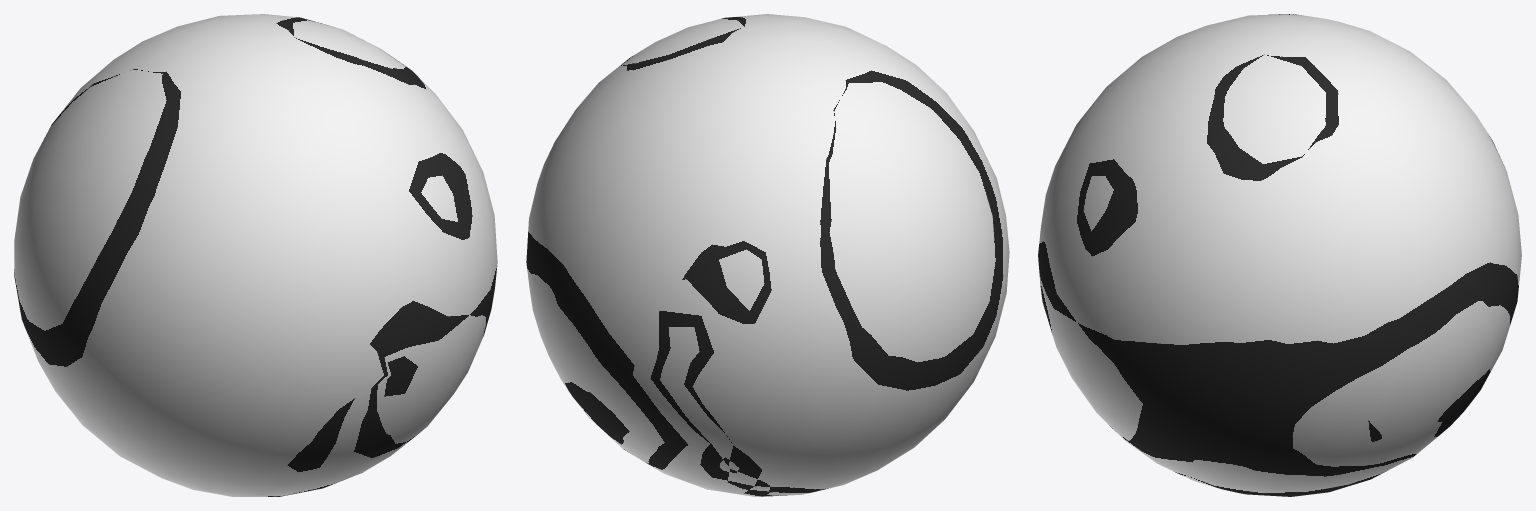
File: sphere_R100mm_cgal_authalic_result.glb
The picture shows the model from 3 angles, left to right: view 1: azimuth 30°, elevation 25°; view 2: azimuth 150°, elevation 25°; view 3: azimuth 270°, elevation 25°; orthographic projection.
Bounding box in the file's own units: 200 × 199 × 200.
Materials: 1 (1 with a texture image).
